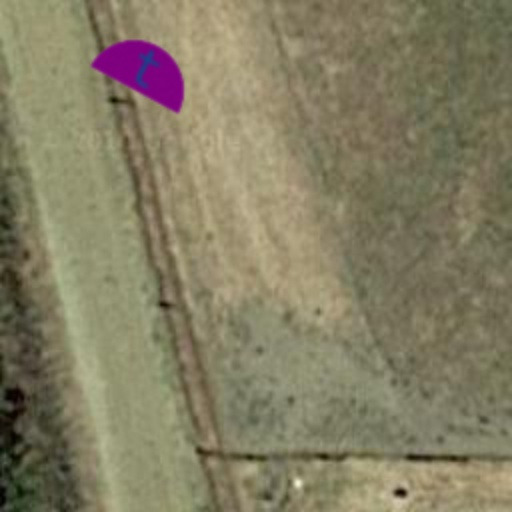semicircle: (76, 0, 214, 138)
